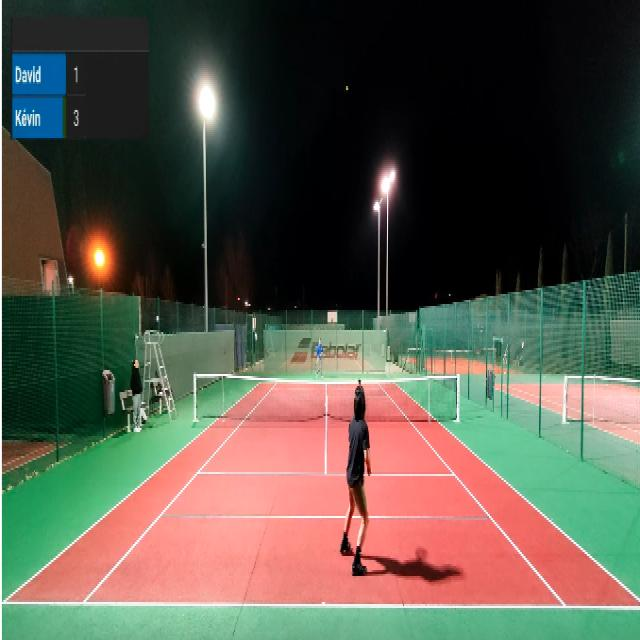ball: (345, 85, 349, 92)
